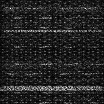lte: (1, 85, 104, 90), (1, 28, 104, 32)
